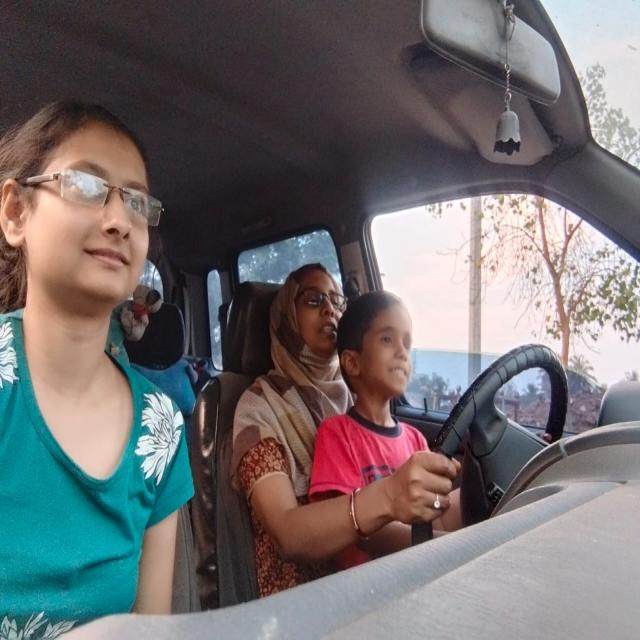child: (337, 303, 417, 402)
person: (5, 99, 158, 305), (270, 266, 342, 351)
